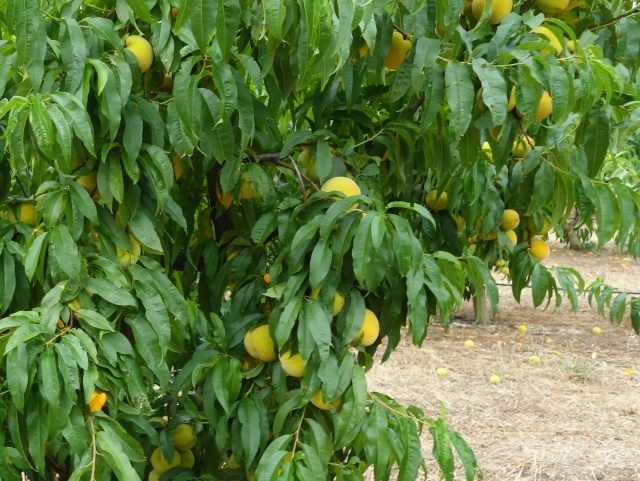peach: (318, 170, 367, 212), (112, 30, 156, 75), (238, 319, 282, 364), (271, 335, 313, 381), (349, 303, 387, 351), (382, 25, 418, 71), (111, 228, 145, 275), (289, 139, 323, 183), (147, 438, 185, 477), (516, 89, 556, 125), (5, 194, 42, 232), (303, 380, 342, 414), (466, 1, 517, 26), (165, 417, 199, 451), (423, 185, 454, 217), (524, 234, 554, 264), (512, 130, 539, 162), (496, 203, 524, 233), (169, 447, 200, 473), (495, 227, 523, 254), (528, 1, 575, 17)
